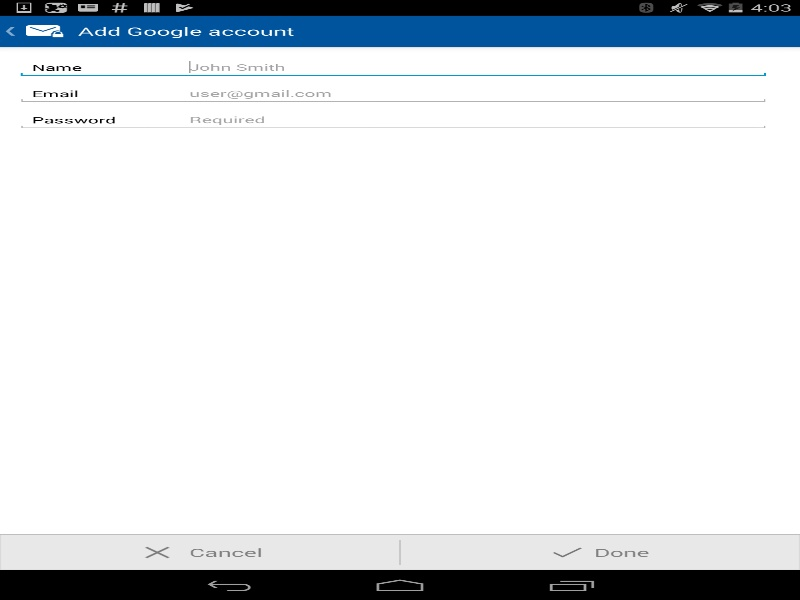Input: (16, 56, 770, 78), (16, 83, 770, 104), (16, 109, 770, 130)
